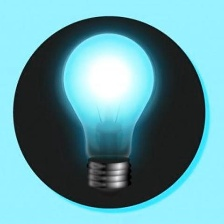light_bulb: (60, 30, 160, 200)
